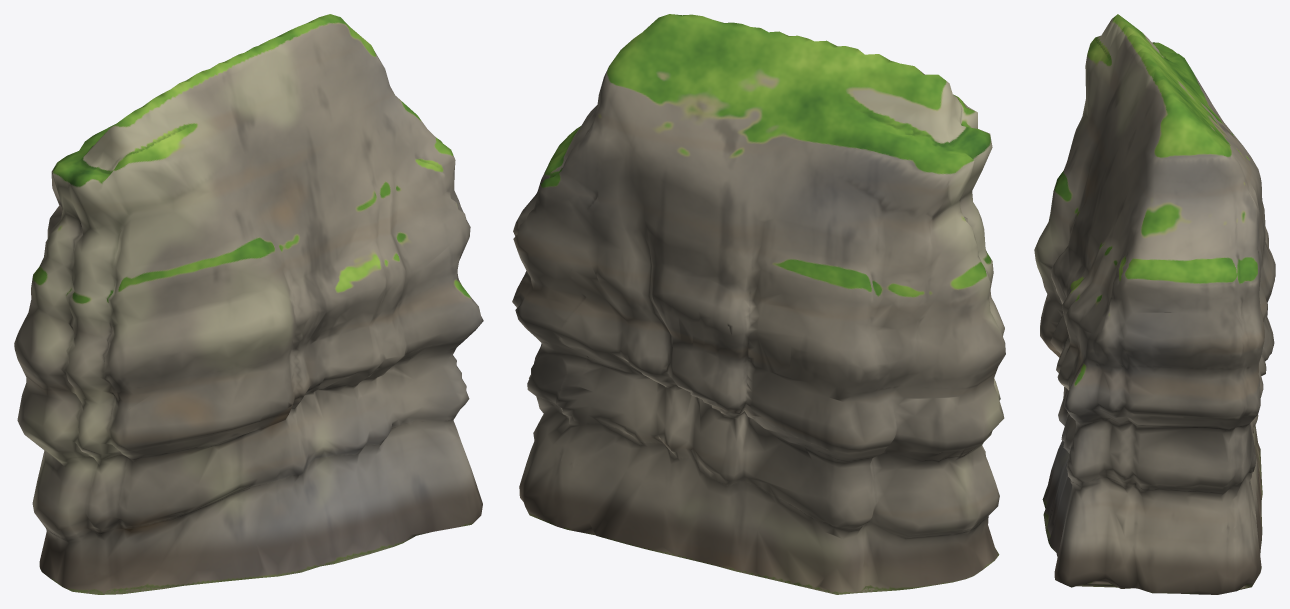
Rendered from Cliff_B.fbx.
3 views of the same model, side by side, from view 1: azimuth 30°, elevation 25°; view 2: azimuth 150°, elevation 25°; view 3: azimuth 270°, elevation 25° (orthographic). The views are drawn at different scales.
Parts seen in each view (by area): view 1: Cliff_B; view 2: Cliff_B; view 3: Cliff_B.
Boxes of the visible parts, <box> form: Cliff_B: <box>14,14,483,594</box>; Cliff_B: <box>512,14,1005,594</box>; Cliff_B: <box>1034,14,1275,594</box>.
Bounding box in the file's own units: 9.15 × 9.79 × 4.78.
1 material, 1 textured.
